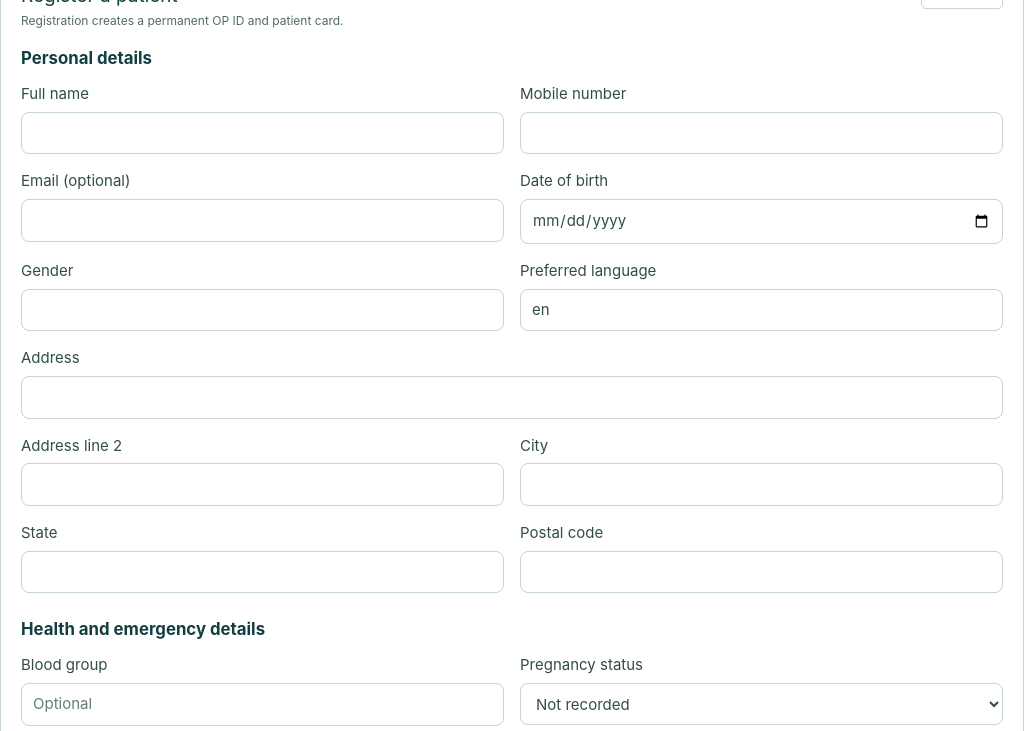
Test case: patient card registration › requires staff to resolve a possible duplicate before registration
In the field labelled "Full name": (262, 133) [21,112,504,154], type "Aarav Sample"
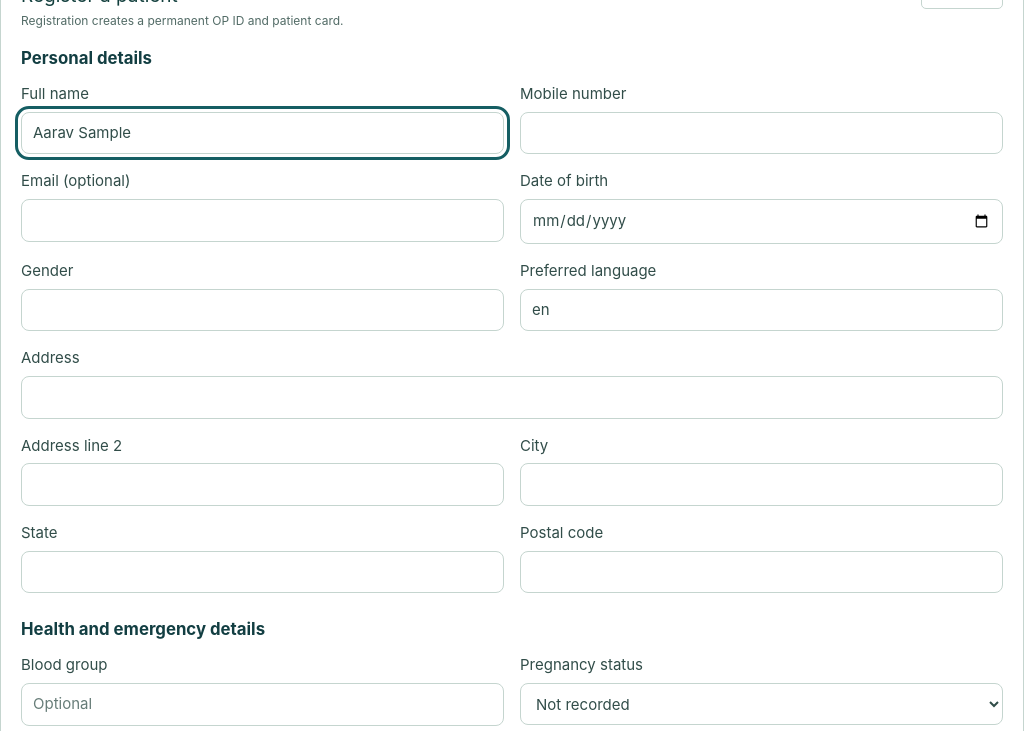
In the field labelled "Mobile number": (762, 133) [520,112,1003,154], type "+919876500001"
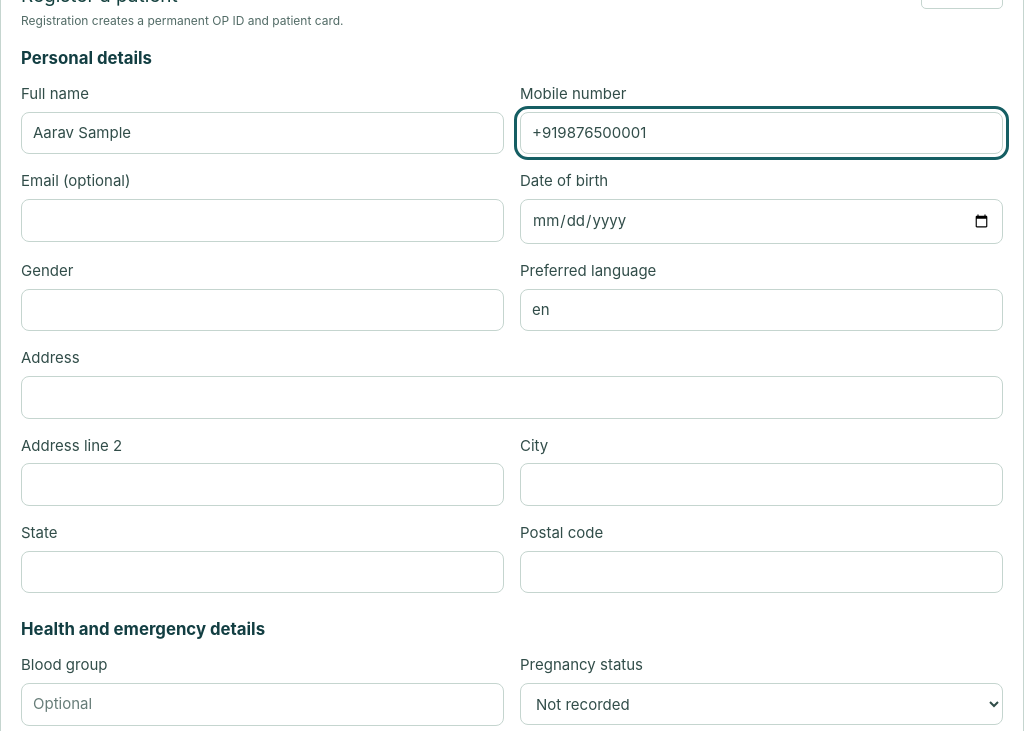
In the date field labelled "Date of birth": (762, 221) [520,199,1003,244], type "1990-05-01"
(page scrolled)
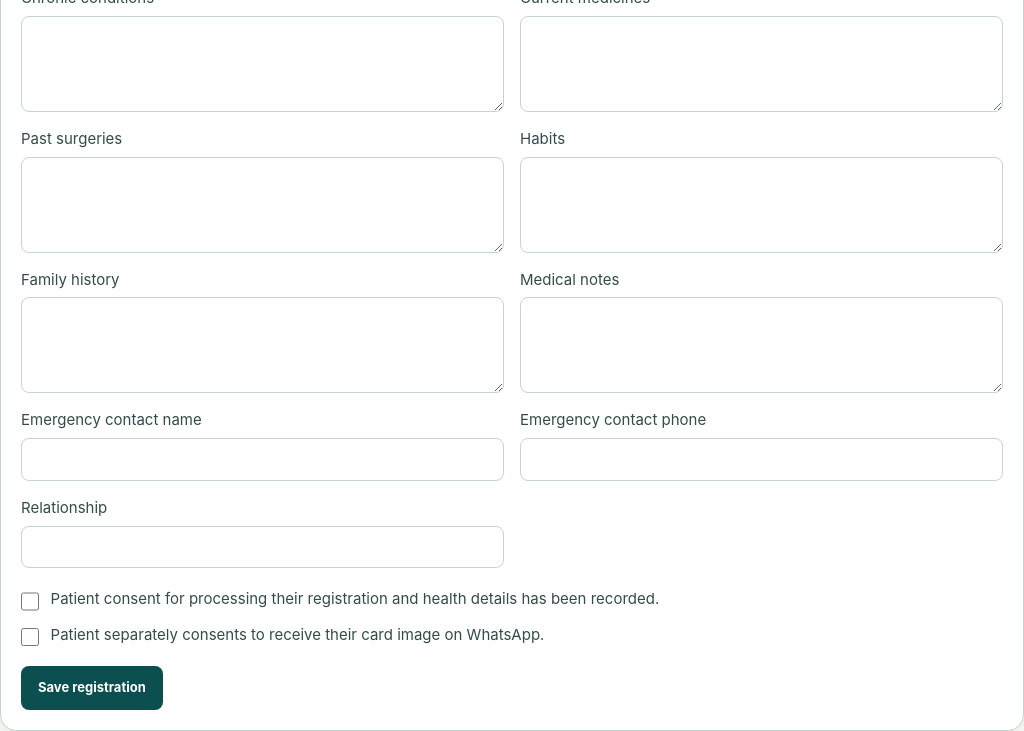
Click the checkbox labelled "Patient consent for processing": click(30, 601) [21,592,39,611]
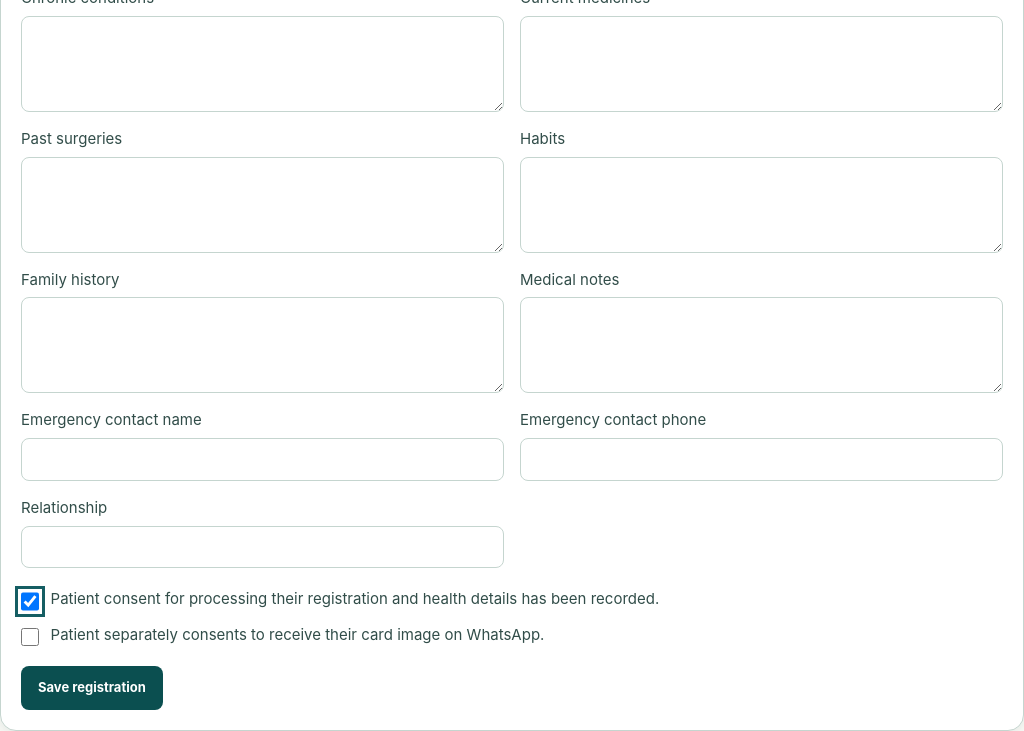
Click the button "Save registration": click(92, 688) [21,666,163,710]
(page scrolled)
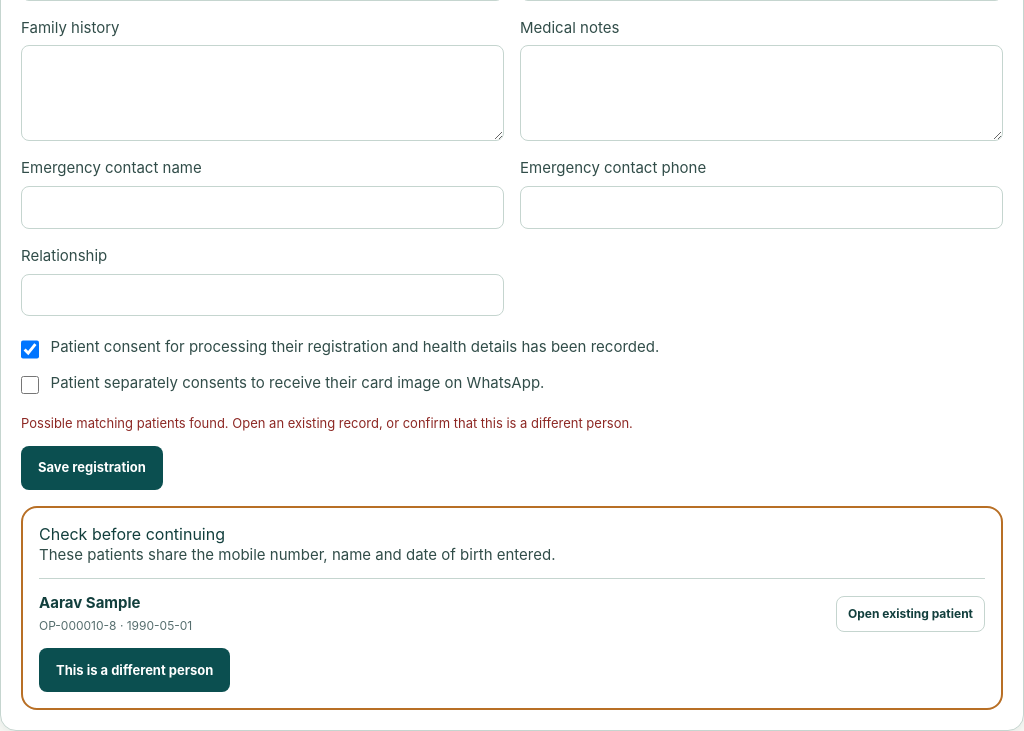
Check: the heading "Check before continuing" is shown, box [39,524,225,544]
Click the button "This is a different person": click(135, 670) [39,648,230,692]
(page scrolled)
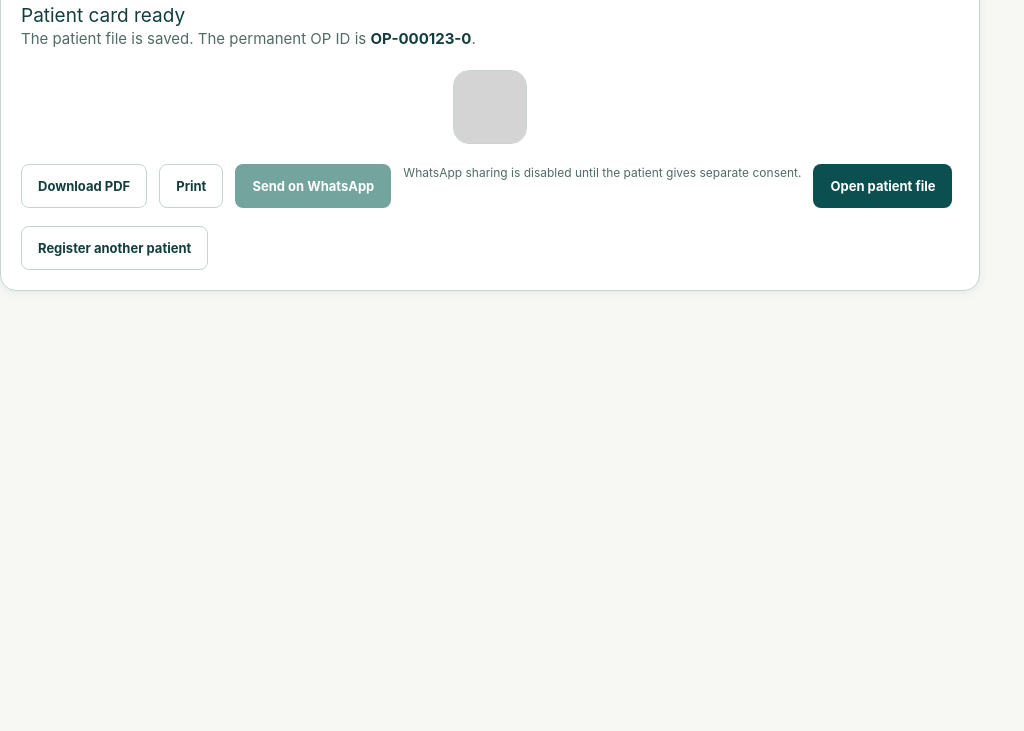
Check: the heading "Patient card ready" is shown, box [21,4,185,27]
